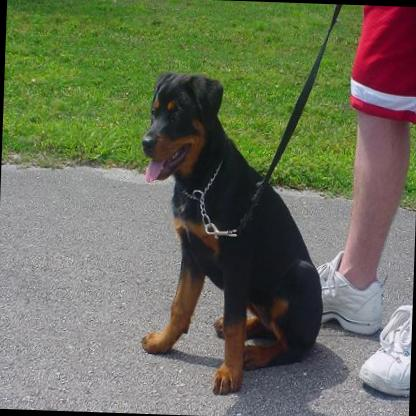Rottweiler: (132, 69, 330, 399)
